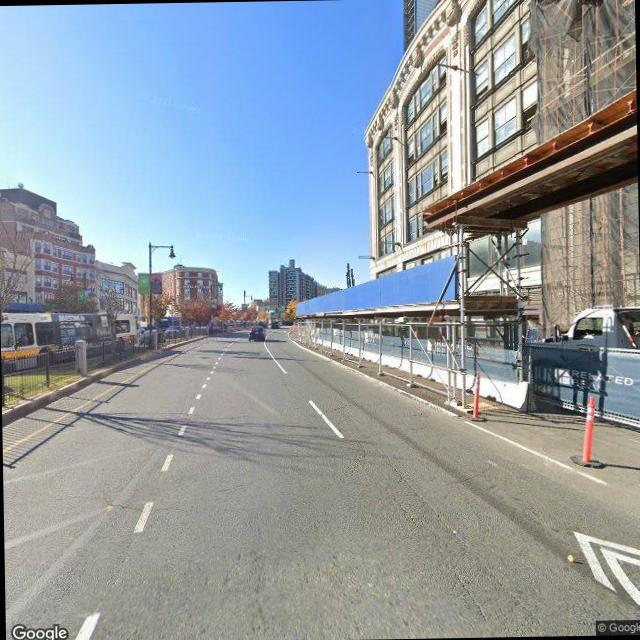crack: (2, 471, 206, 523)
